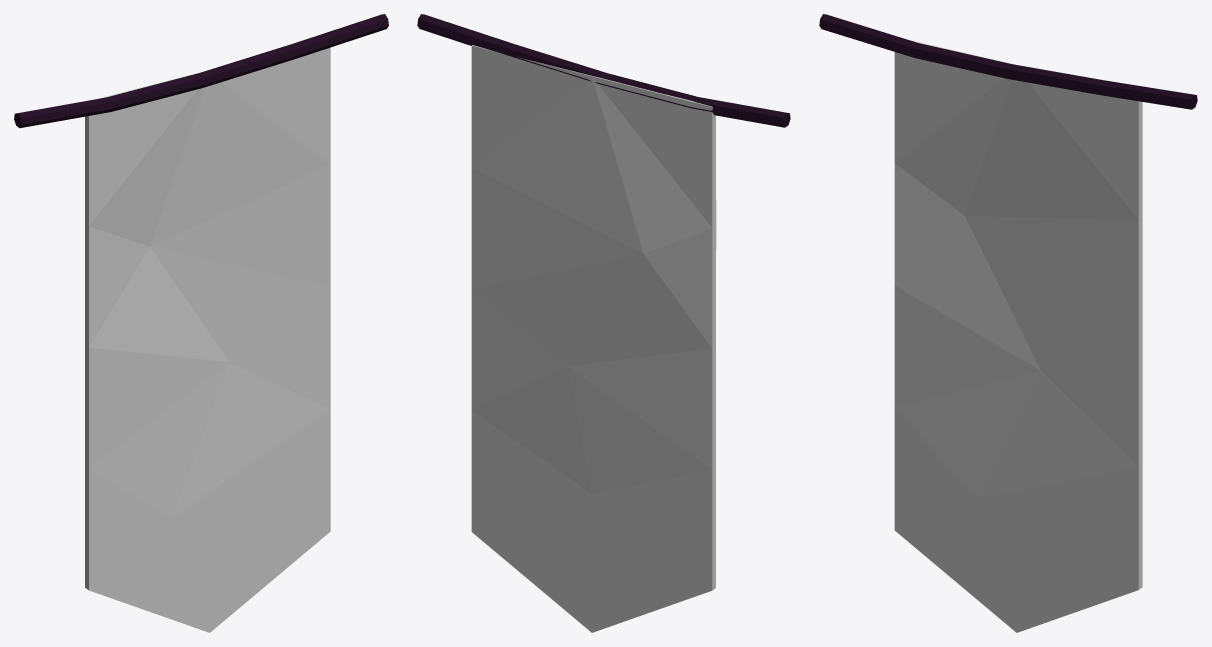
The model's file is prop_flag.FBX.
The picture shows the model from 3 angles, left to right: view 1: azimuth 30°, elevation 25°; view 2: azimuth 150°, elevation 25°; view 3: azimuth 330°, elevation 25°; orthographic projection.
Parts seen in each view (by area): view 1: flag; view 2: flag; view 3: flag.
Part boxes in pixels (<box>): flag: <box>14,14,388,632</box>; flag: <box>417,14,790,632</box>; flag: <box>819,14,1197,632</box>.
Size of the model in its own units: 4.78 by 7.17 by 0.264.
